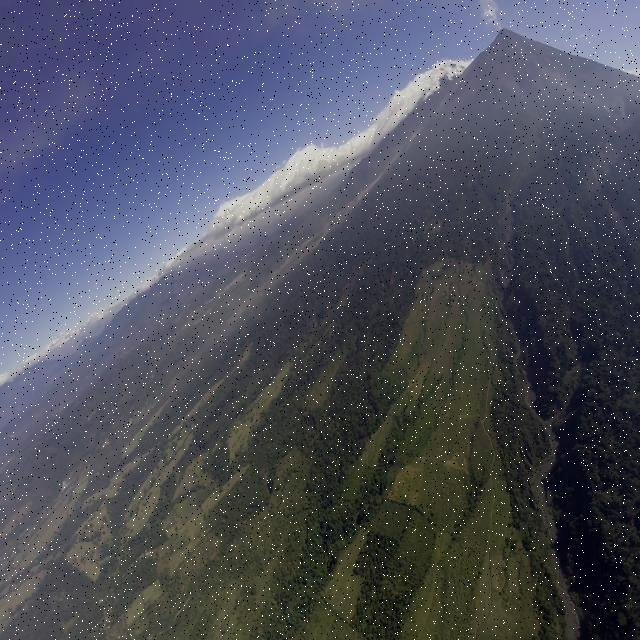Plume: (484, 2, 498, 26)
Summit: (492, 25, 522, 48)
